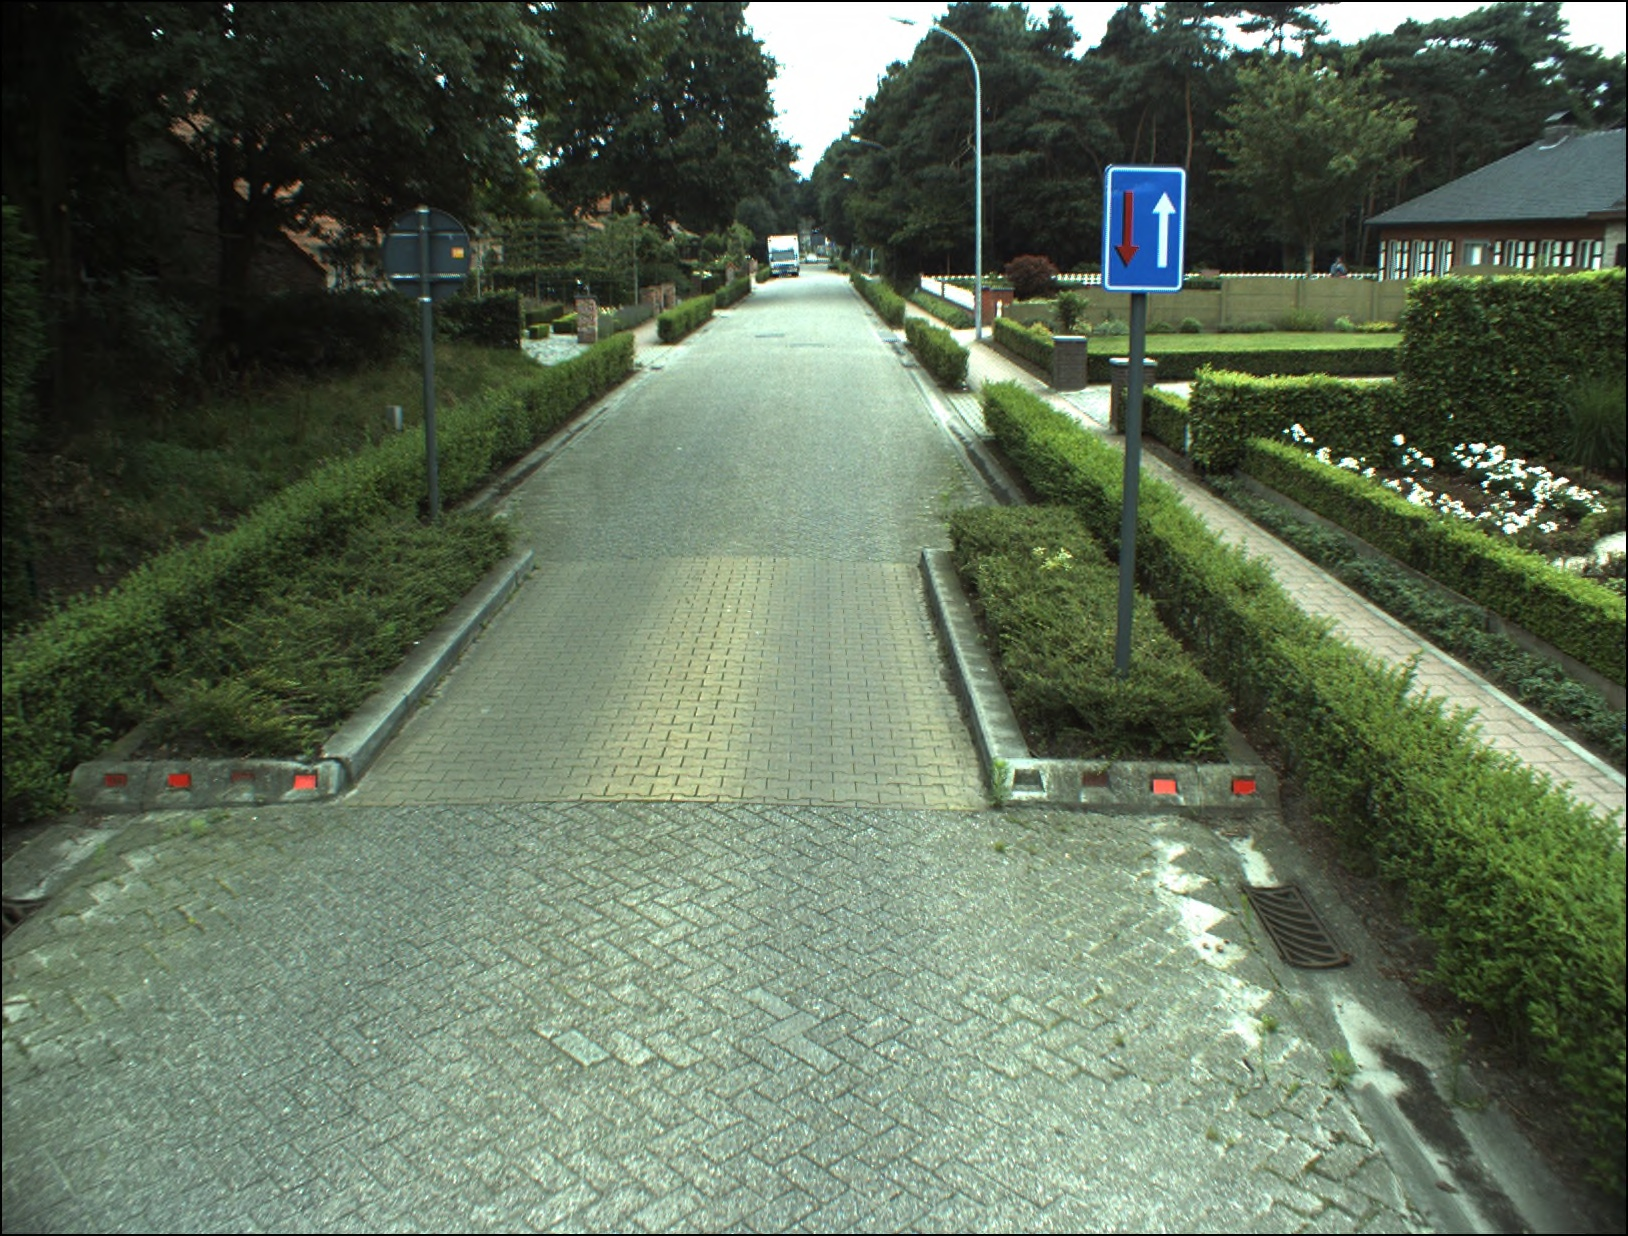roadnarrow1: (1102, 165, 1183, 291)
